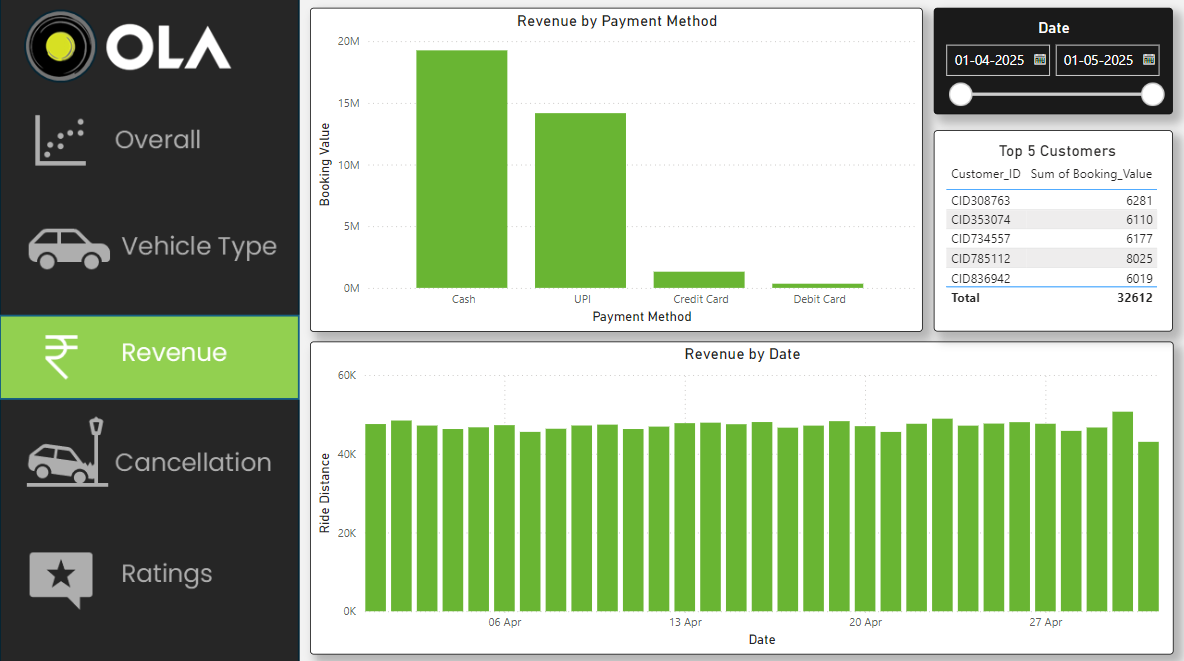

The dashboard page shown, as its layout file describes it:
{"tool":"powerbi","page":{"name":"Revenue","canvas":[1280,720],"ordinal":2},"visuals":[{"type":"actionButton","box":[0,225.6,324.4,88.4],"z":0},{"type":"actionButton","box":[0,452.3,324.4,88.4],"z":1000},{"type":"actionButton","box":[0,576.7,324.4,88.4],"z":2000},{"type":"actionButton","box":[0,110.5,324.4,88.4],"z":3000},{"type":"clusteredColumnChart","title":"Revenue by Payment Method","fields":{"Y":["Sum(Bookings.Booking_Value)"],"Category":["Bookings.Payment_Method"]},"box":[335,10,662.5,350],"z":4000},{"type":"clusteredColumnChart","title":"Revenue by Date","fields":{"Y":["Sum(Bookings.Ride_Distance)"],"Category":["Bookings.Date"]},"box":[335,370,933.8,338.8],"z":5000},{"type":"slicer","title":"Date","fields":{"Values":["Bookings.Date"]},"box":[1010,10,258.8,115],"z":6000},{"type":"tableEx","title":"Top 5 Customers","fields":{"Values":["Bookings.Customer_ID","Sum(Bookings.Booking_Value)"]},"box":[1010,142.5,258.8,217.5],"z":7000}]}

Visuals, with their boxes in screenshot pixels (x1, y1, x2, y2), scaled from the page's 1280x720 canvas onto the 1184x661 screenshot:
actionButton: crop(0, 207, 300, 288)
actionButton: crop(0, 415, 300, 496)
actionButton: crop(0, 529, 300, 611)
actionButton: crop(0, 101, 300, 183)
"Revenue by Payment Method" clusteredColumnChart: crop(310, 9, 923, 330)
"Revenue by Date" clusteredColumnChart: crop(310, 340, 1174, 651)
"Date" slicer: crop(934, 9, 1174, 115)
"Top 5 Customers" tableEx: crop(934, 131, 1174, 330)
